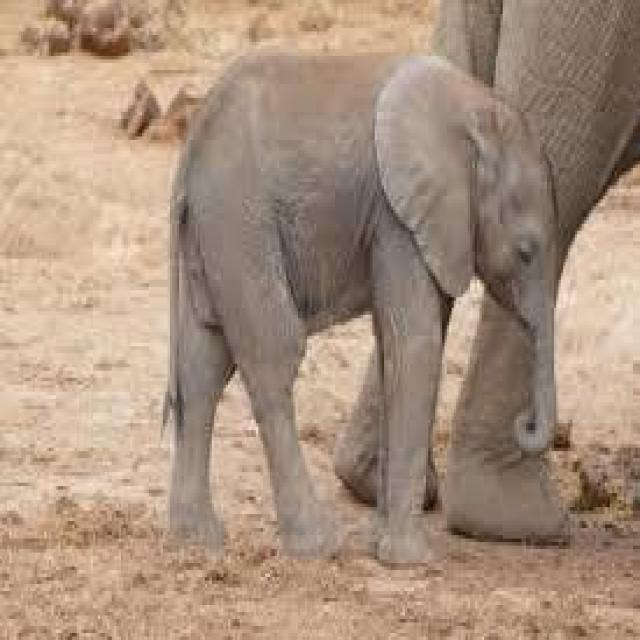Elephant: (158, 39, 571, 574)
